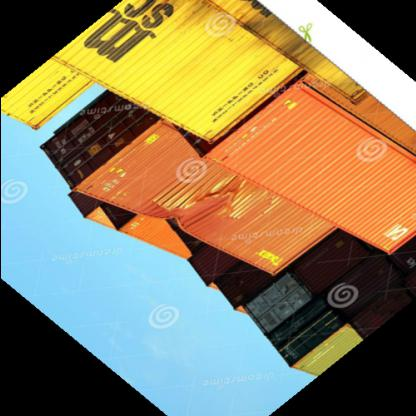Damage: (156, 178, 236, 238)
